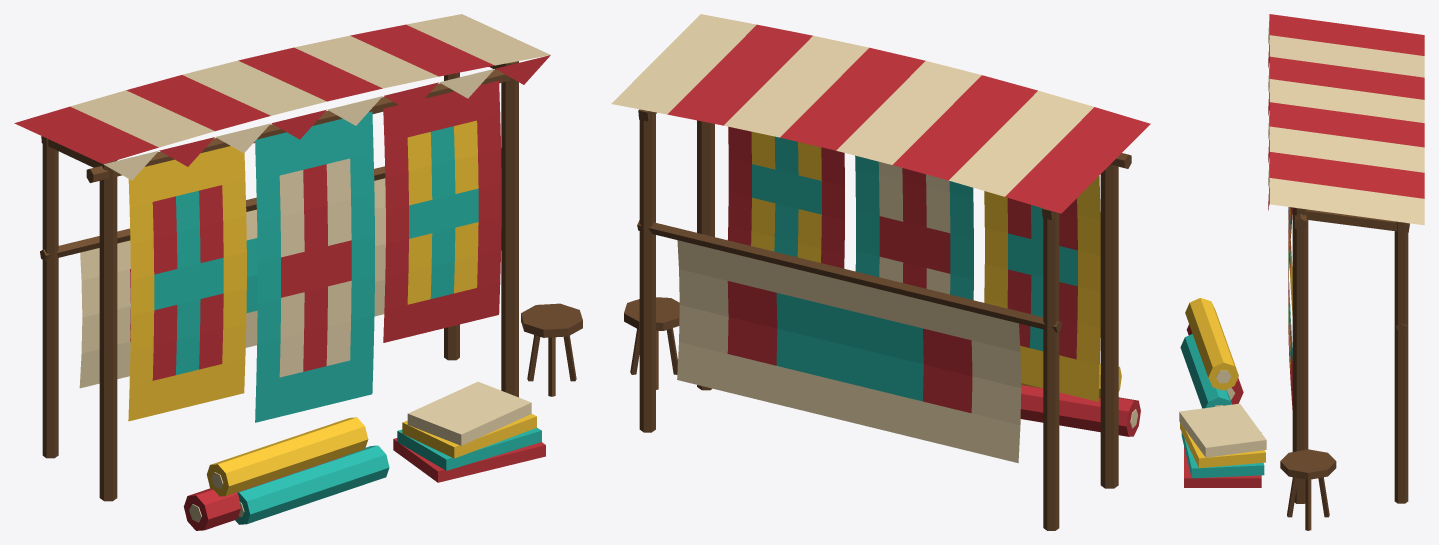
Rendered from market_rugs.glb.
The picture shows the model from 3 angles, left to right: view 1: azimuth 30°, elevation 25°; view 2: azimuth 150°, elevation 25°; view 3: azimuth 270°, elevation 25°; orthographic projection. The views are drawn at different scales.
Parts seen in each view (by area): view 1: market_rugs; view 2: market_rugs; view 3: market_rugs.
Boxes of the visible parts, left/top/right/bottom form: market_rugs: left=14, top=14, right=582, bottom=530; market_rugs: left=611, top=14, right=1150, bottom=530; market_rugs: left=1179, top=14, right=1424, bottom=530.
Bounding box in the file's own units: 3.23 × 2.23 × 1.58.
